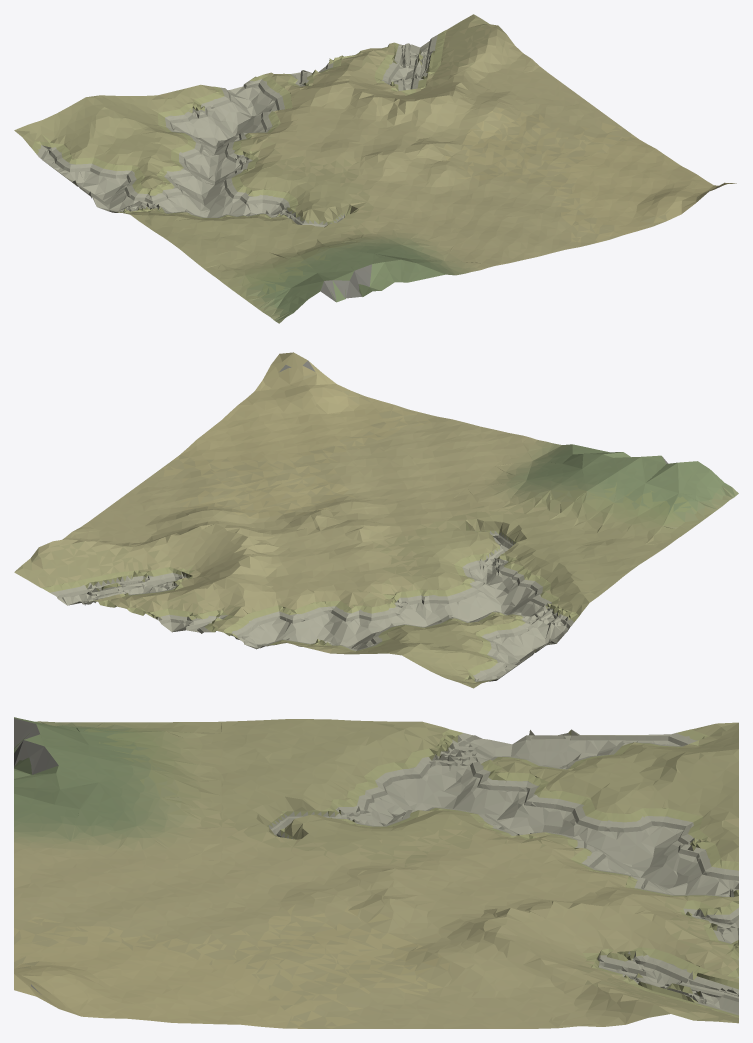
File: Ground_0_-1.glb
The picture shows the model from 3 angles, top to bottom: view 1: azimuth 30°, elevation 25°; view 2: azimuth 150°, elevation 25°; view 3: azimuth 270°, elevation 25°; orthographic projection. The views are drawn at different scales.
Visible parts, largest first — view 1: Ground_0_-1; view 2: Ground_0_-1; view 3: Ground_0_-1.
Part boxes in pixels (x1=…): Ground_0_-1: x1=14, y1=14, x2=736, y2=323; Ground_0_-1: x1=14, y1=352, x2=738, y2=688; Ground_0_-1: x1=14, y1=717, x2=738, y2=1028.
Bounding box in the file's own units: 768 × 99.38 × 768.
